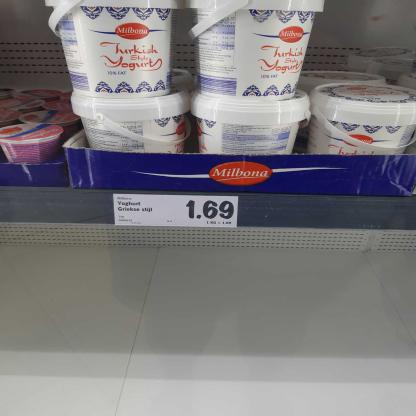prtg: (114, 195, 239, 228)
